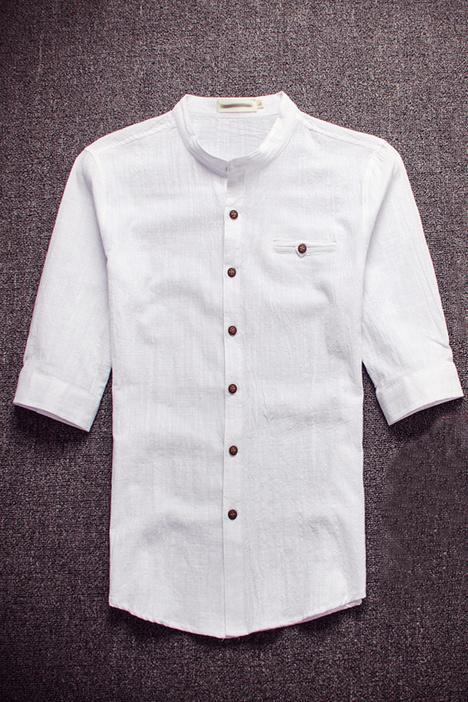S_shirt: (14, 94, 464, 637)
